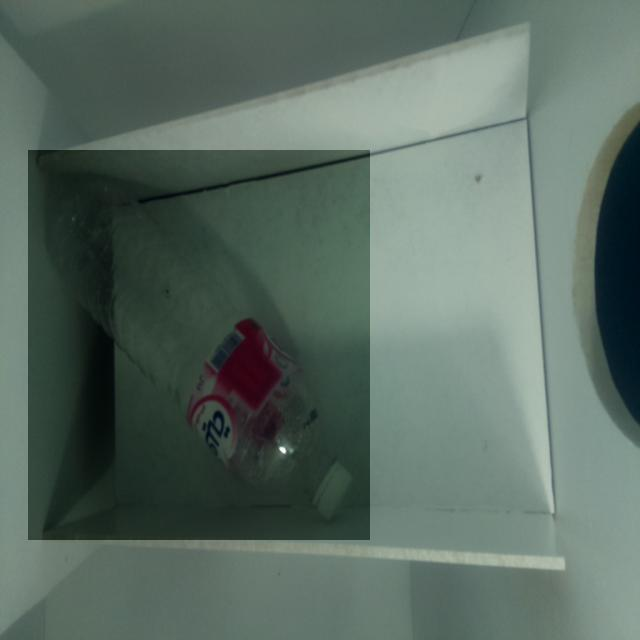bottle: (28, 150, 370, 540)
label: (192, 306, 290, 468)
